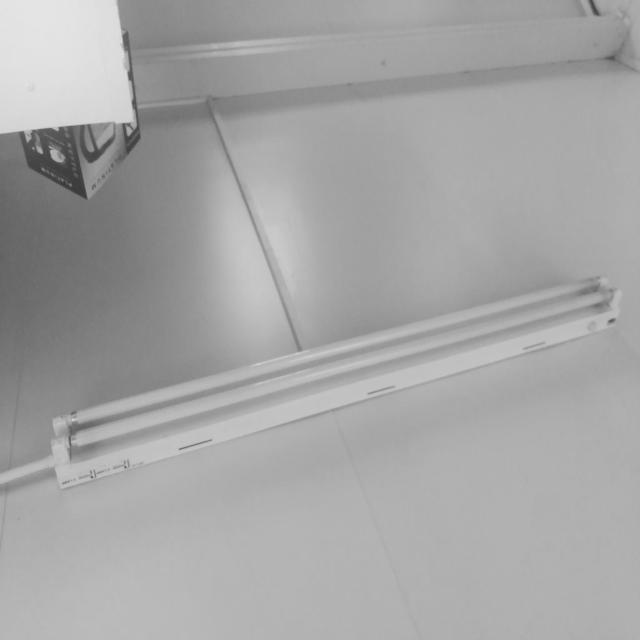light: (49, 272, 622, 490)
